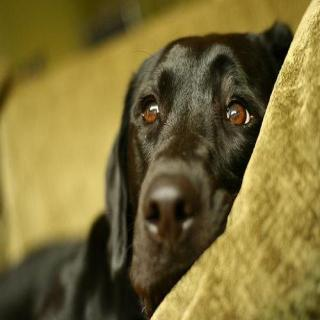dog: (94, 23, 295, 297)
nose: (139, 172, 202, 254)
